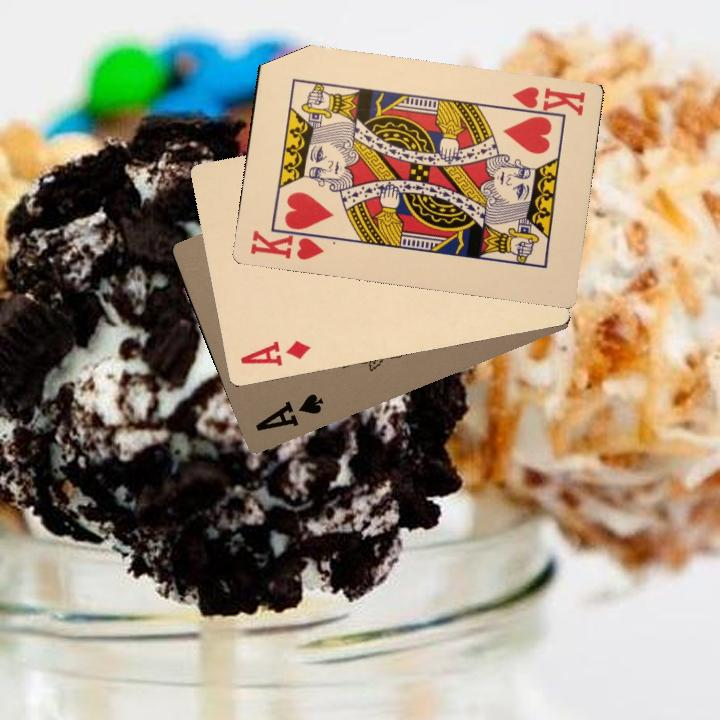Ad: (236, 336, 313, 369)
As: (251, 389, 326, 434)
Kh: (506, 82, 588, 123), (246, 223, 329, 263)
